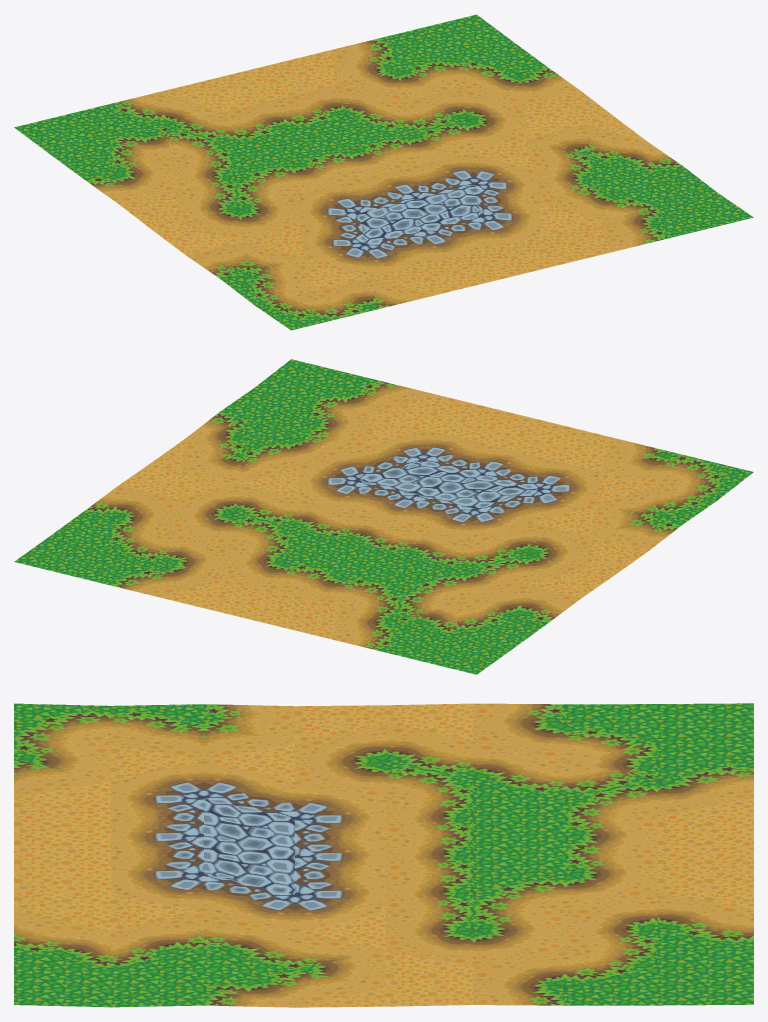
File: c_grd_f_m_2.001.glb
3 views of the same model, one above another, from view 1: azimuth 30°, elevation 25°; view 2: azimuth 150°, elevation 25°; view 3: azimuth 270°, elevation 25° (orthographic). The views are drawn at different scales.
Visible parts, largest first — view 1: c_grd_f_m_2.001; view 2: c_grd_f_m_2.001; view 3: c_grd_f_m_2.001.
Part boxes in pixels (box(x1,y1,x2,y2)): c_grd_f_m_2.001: box(14, 14, 753, 330); c_grd_f_m_2.001: box(14, 359, 753, 674); c_grd_f_m_2.001: box(14, 703, 753, 1007).
Bounding box in the file's own units: 32 × 0.1406 × 33.2.
Materials: 5 (5 with a texture image).
